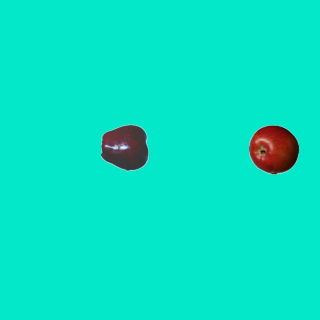Apple Braeburn: (248, 124, 298, 174)
Apple Red Delicious: (100, 122, 150, 172)
